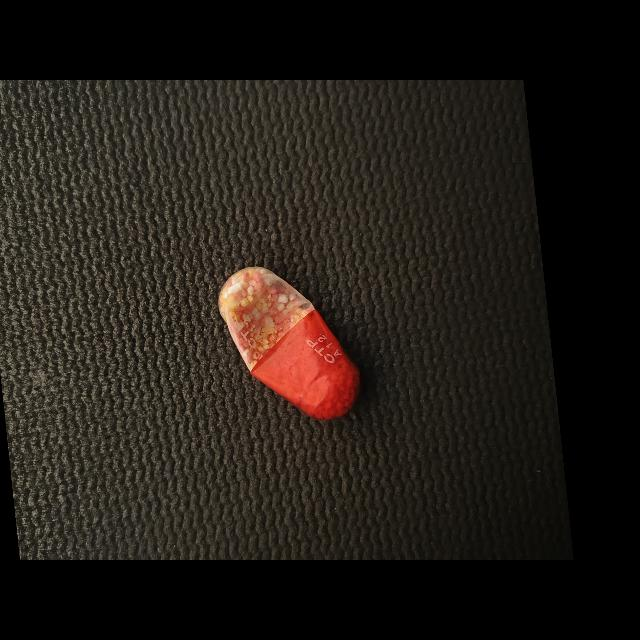Defective Capsule: (218, 267, 360, 420)
